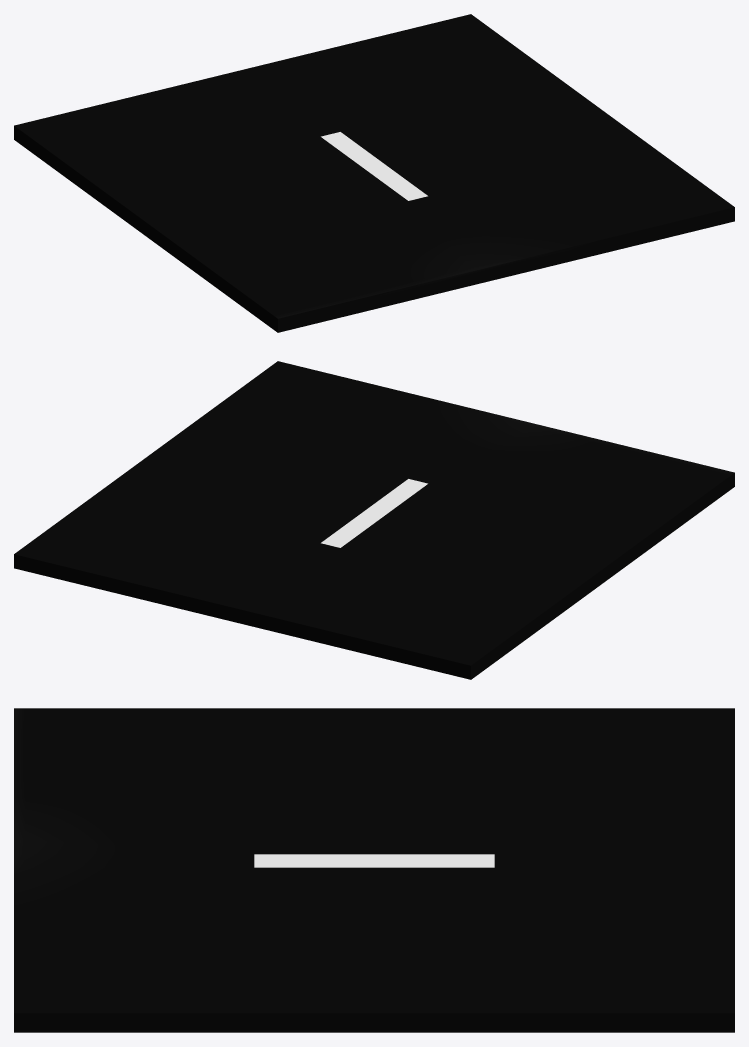
File: Paht_2.fbx
The picture shows the model from 3 angles, top to bottom: view 1: azimuth 30°, elevation 25°; view 2: azimuth 150°, elevation 25°; view 3: azimuth 270°, elevation 25°; orthographic projection. The views are drawn at different scales.
Visible parts, largest first — view 1: Paht_2; view 2: Paht_2; view 3: Paht_2.
Part boxes in pixels (box(x1,y1,x2,y2)): Paht_2: box(14, 14, 734, 332); Paht_2: box(14, 361, 734, 679); Paht_2: box(14, 708, 734, 1032).
Bounding box in the file's own units: 736 × 21.76 × 736.
Materials: 1 (1 with a texture image).
